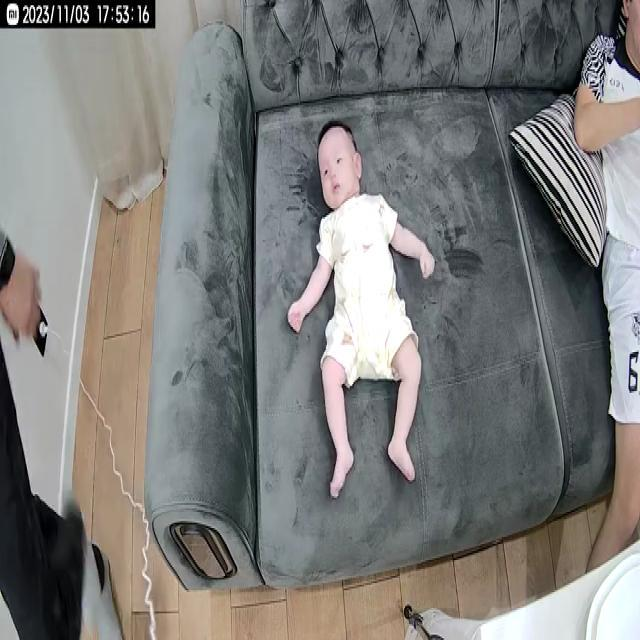baby: (286, 121, 438, 502)
